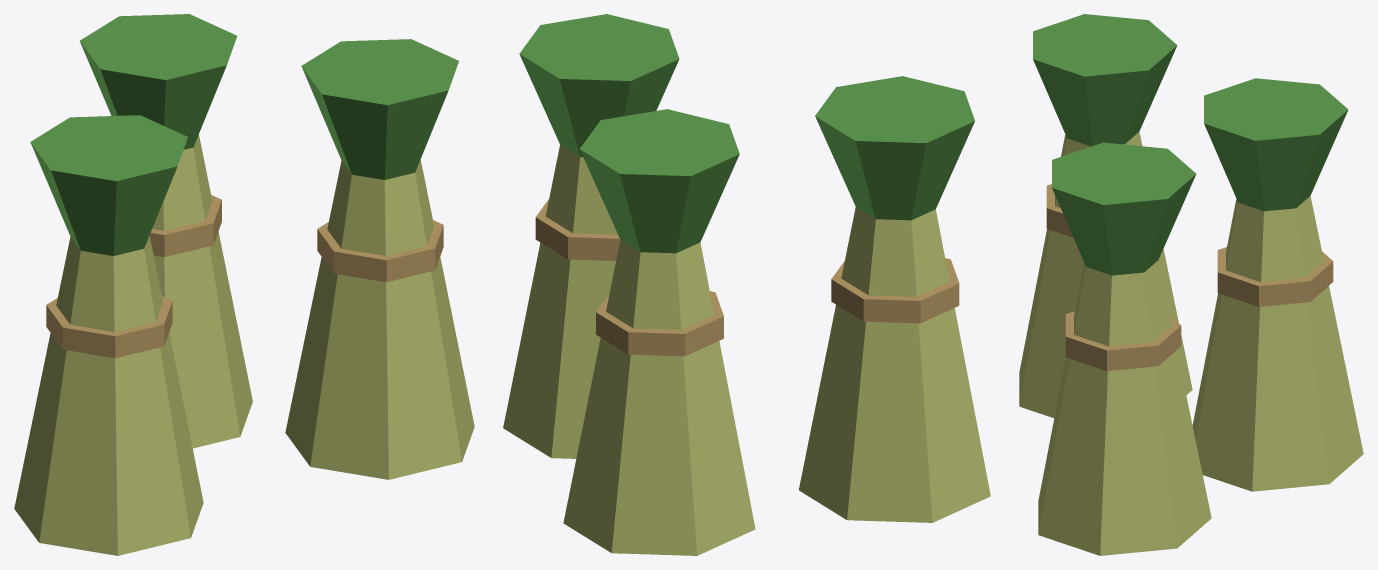
The model's file is pile_flax_1.glb.
The picture shows the model from 3 angles, left to right: view 1: azimuth 30°, elevation 25°; view 2: azimuth 150°, elevation 25°; view 3: azimuth 270°, elevation 25°; orthographic projection. The views are drawn at different scales.
Visible parts, largest first — view 1: pile_flax_1; view 2: pile_flax_1; view 3: pile_flax_1.
Boxes of the visible parts, x1=… form: pile_flax_1: x1=14, y1=14, x2=474, y2=555; pile_flax_1: x1=503, y1=14, x2=990, y2=555; pile_flax_1: x1=1019, y1=14, x2=1363, y2=555.
Size of the model in its own units: 1.27 by 1 by 0.9062.
